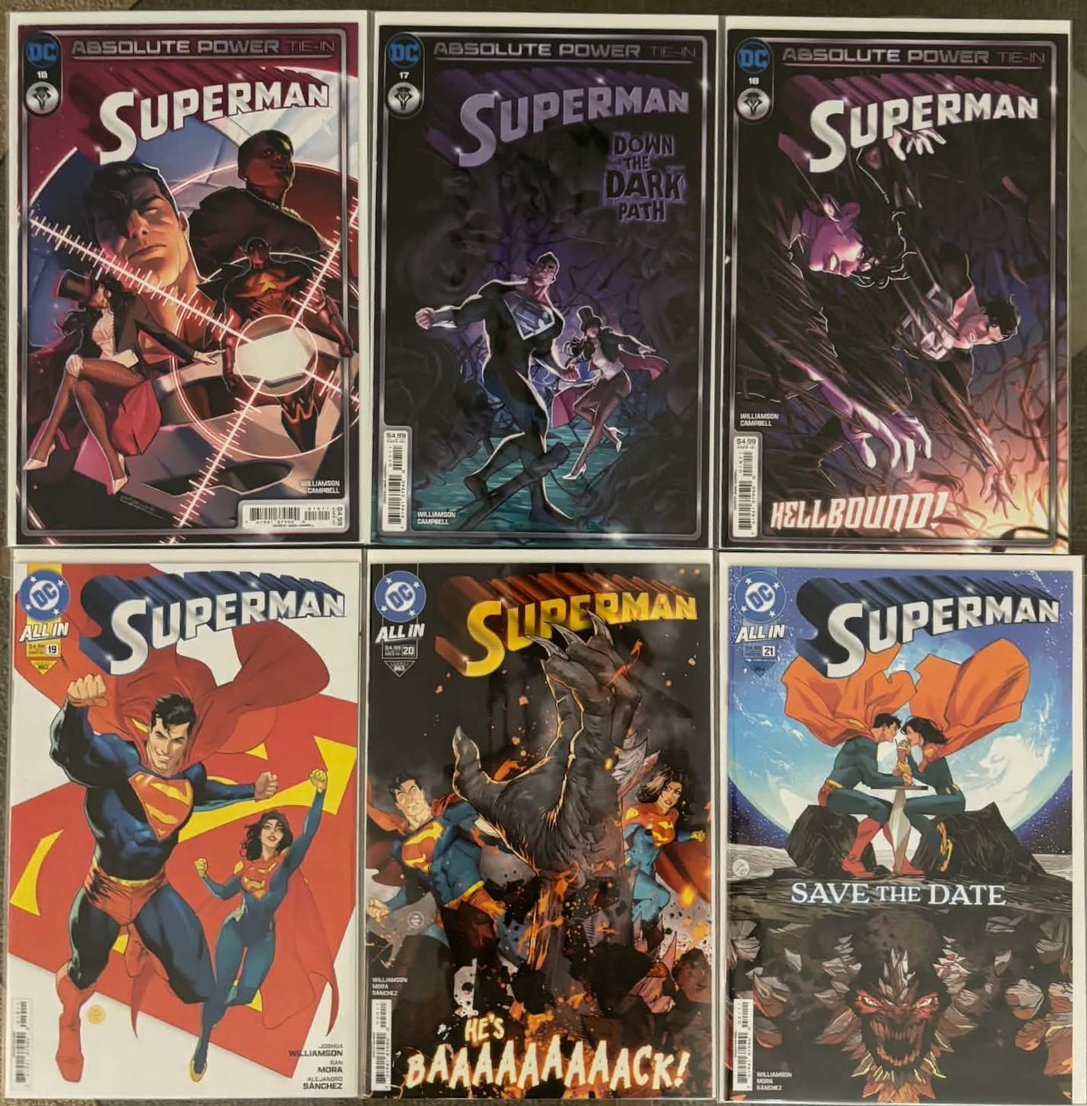comic: (720, 552, 1086, 1106), (4, 550, 361, 1100), (363, 551, 718, 1098), (7, 11, 365, 544), (370, 12, 718, 545), (723, 19, 1068, 551)
